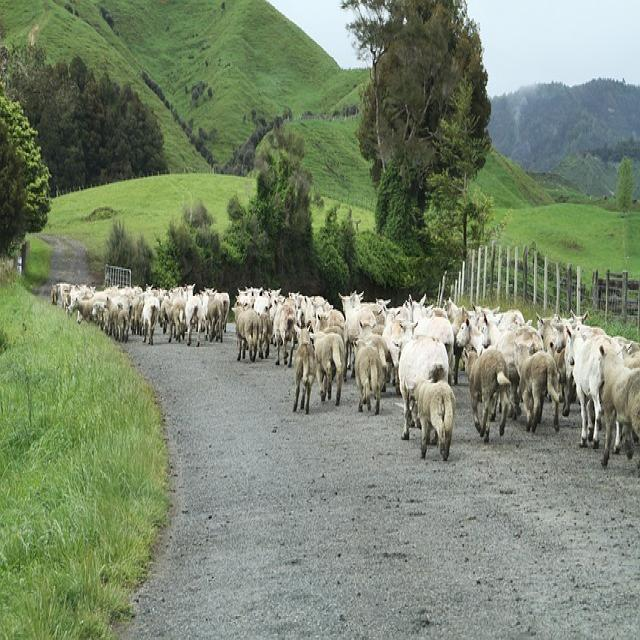sheep: (397, 335, 449, 440), (597, 338, 639, 467), (462, 346, 511, 442), (410, 377, 455, 461), (518, 348, 560, 432), (309, 330, 345, 406), (353, 338, 386, 415), (292, 323, 316, 415)
